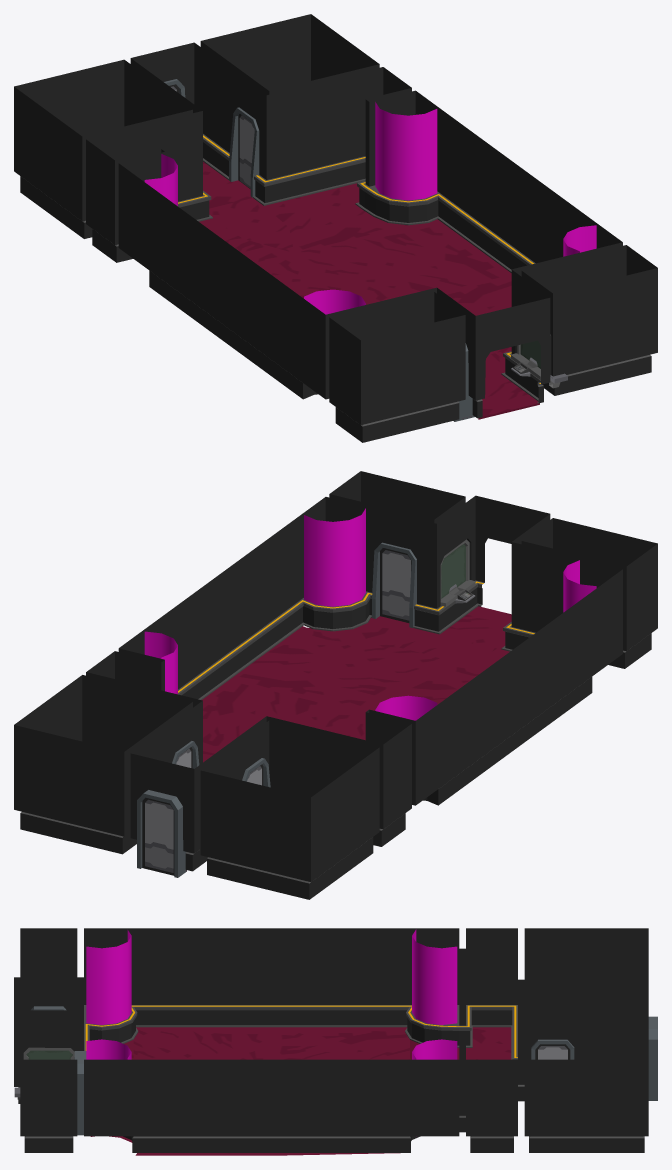
File: SM_Bld_StripClub_Interior_01.fbx
3 renders of one model, top to bottom at view 1: azimuth 30°, elevation 25°; view 2: azimuth 150°, elevation 25°; view 3: azimuth 270°, elevation 25°, orthographic. The views are drawn at different scales.
Visible parts, largest first — view 1: SM_Bld_StripClub_Interior_01, SM_HologramPods_01, SM_Prop_Door_04; view 2: SM_Bld_StripClub_Interior_01, SM_HologramPods_01, SM_Prop_Door_05, SM_Prop_Door_01, SM_Glass; view 3: SM_Bld_StripClub_Interior_01, SM_HologramPods_01, SM_Prop_Door_04, SM_Glass.
Part boxes in pixels (<box>): SM_Bld_StripClub_Interior_01: <box>14,14,657,442</box>; SM_HologramPods_01: <box>144,102,596,314</box>; SM_Prop_Door_04: <box>238,114,254,188</box>; SM_Bld_StripClub_Interior_01: <box>14,471,657,899</box>; SM_HologramPods_01: <box>144,508,596,720</box>; SM_Prop_Door_05: <box>142,797,174,875</box>; SM_Prop_Door_01: <box>380,548,411,622</box>; SM_Glass: <box>441,544,465,598</box>; SM_Bld_StripClub_Interior_01: <box>14,928,657,1155</box>; SM_HologramPods_01: <box>86,929,457,1136</box>; SM_Prop_Door_04: <box>535,1044,570,1059</box>; SM_Glass: <box>26,1050,72,1059</box>.
Bounding box in the file's own units: 959 × 335 × 1988.
